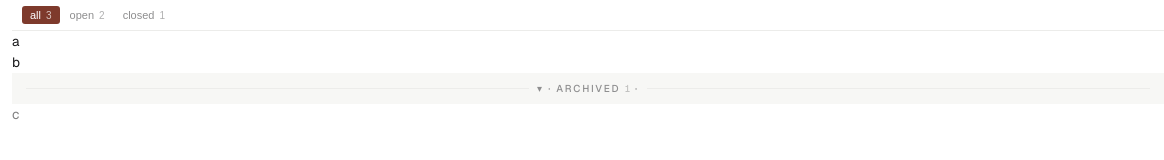
Test case: SPEC-uic-009 ArtifactList filtering pipeline › SPEC-uic-009: defaults to "all" then filters internally when a tab is clicked
The width and height of the screenshot is (1164, 160).
Expected: the text "a" is shown, [12,32,20,50]
Expected: the element with class "artifact-list-archived-row" is shown, [12,105,19,123]
What coordinates should you click on to do the following:
click the button with class "artifact-list-filter-btn" showing "open 2"
I would click on:
 (87, 15)
Its box is [62,6,113,24].
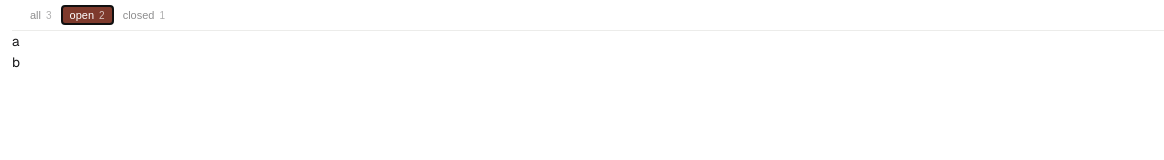
Expected: the text "a" is shown, [12,32,20,50]
Expected: the text with test id "item-c" is gone
